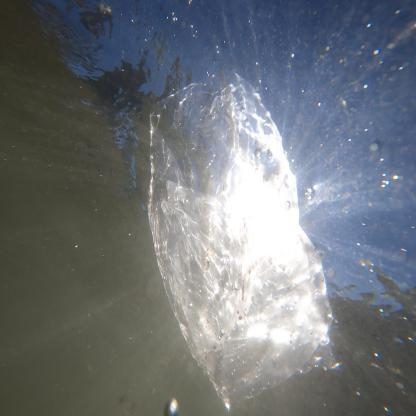Rác: (140, 73, 336, 388)
